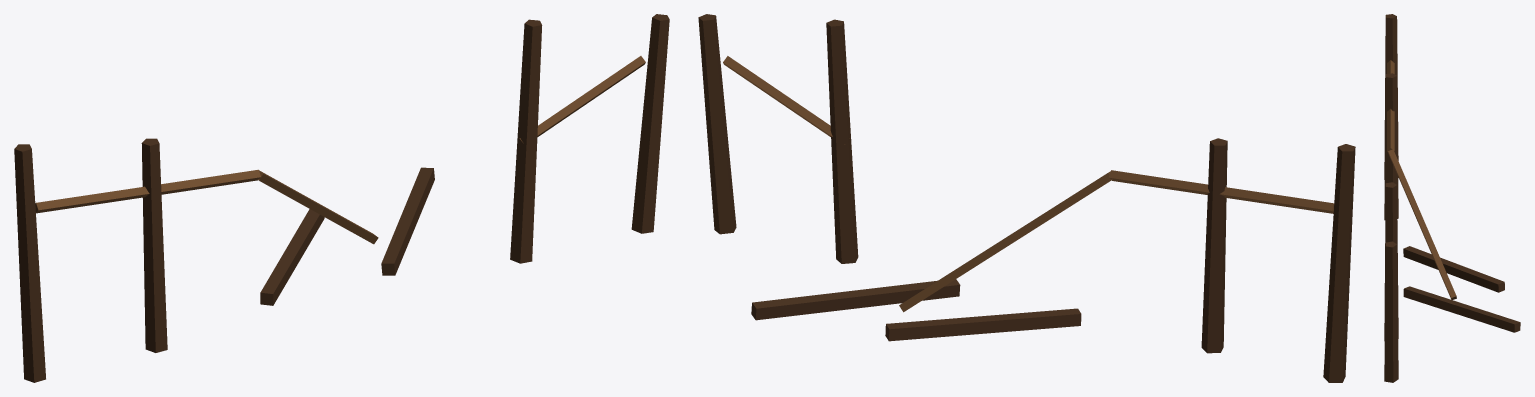
Rendered from br_x_broken_fence.glb.
3 views of the same model, side by side, from view 1: azimuth 30°, elevation 25°; view 2: azimuth 150°, elevation 25°; view 3: azimuth 270°, elevation 25° (orthographic). The views are drawn at different scales.
Visible parts, largest first — view 1: br_x_broken_fence; view 2: br_x_broken_fence; view 3: br_x_broken_fence.
Boxes of the visible parts, x1,y1,x2,y2 form: br_x_broken_fence: [14, 14, 669, 382]; br_x_broken_fence: [698, 14, 1355, 382]; br_x_broken_fence: [1384, 14, 1520, 382].
Size of the model in its own units: 3.23 by 1.11 by 0.8596.
